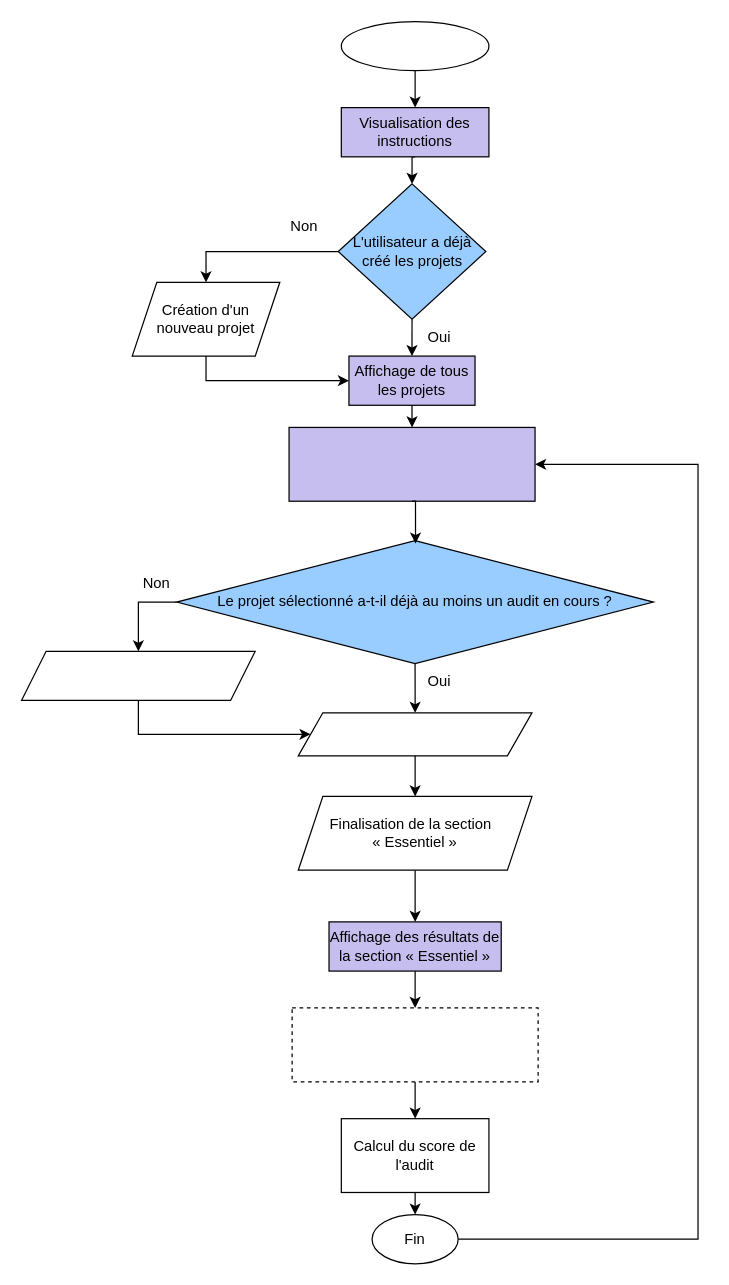
The diagram is 729 pixels wide and 1285 high, and some of its shapes have lost their labels. Each missing label, with the box of its shape:
- Section « Grill NR » - Section « Onglet Technique »: (291, 1007, 538, 1082)
Affichage de tous les audits du projet sélectionné (avec le score associé): (288, 426, 535, 501)
Création d'un nouvel audit: (20, 650, 255, 700)
Login dans l'application: (340, 20, 489, 71)
Poursuite d'un audit en cours: (297, 712, 532, 756)
